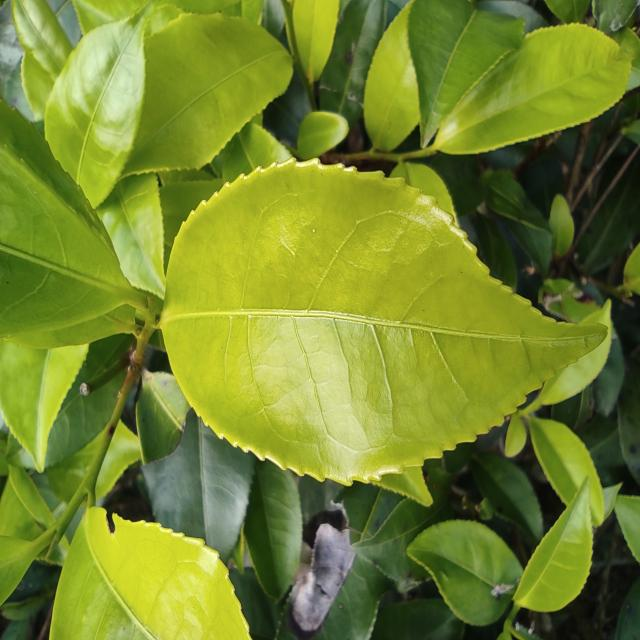Category B(2-4 days): (152, 145, 611, 502)
